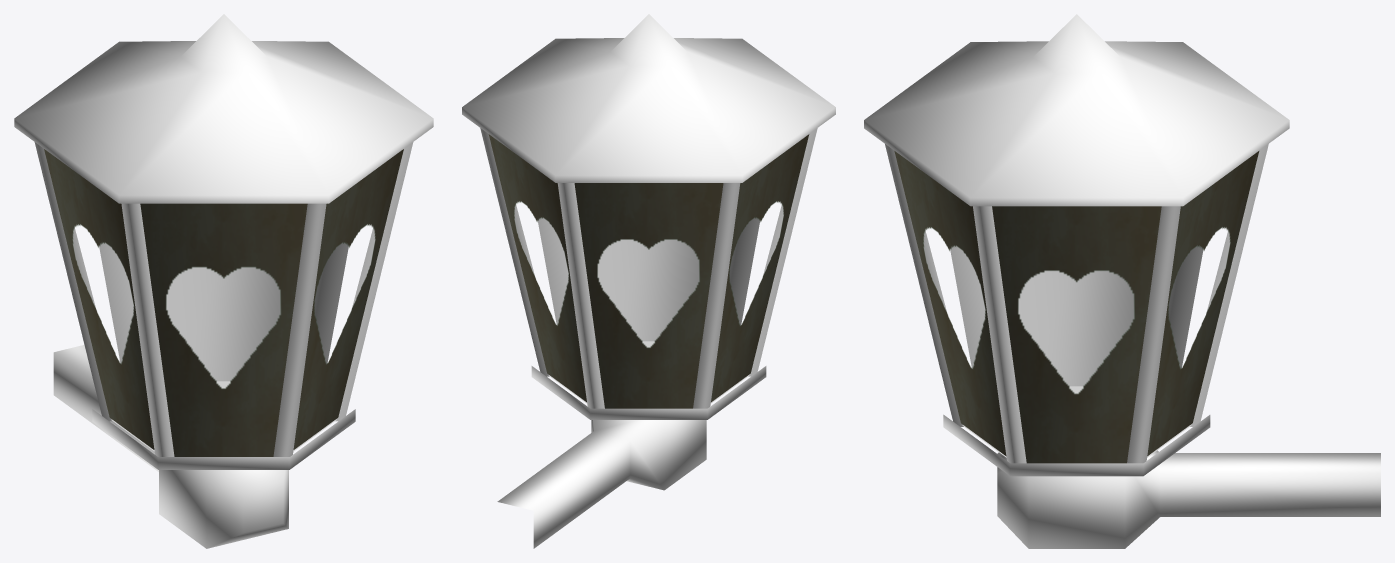
Rendered from stklib_loveLantern_a_main.glb.
3 renders of one model, left to right at view 1: azimuth 30°, elevation 25°; view 2: azimuth 150°, elevation 25°; view 3: azimuth 270°, elevation 25°, orthographic. The views are drawn at different scales.
Visible parts, largest first — view 1: stk_generic_ironA.png__, stklib_loveLantern_heart_a.png__, ___; view 2: stk_generic_ironA.png__, stklib_loveLantern_heart_a.png__, ___; view 3: stk_generic_ironA.png__, stklib_loveLantern_heart_a.png__, ___.
Boxes of the visible parts, x1,y1,x2,y2 form: stk_generic_ironA.png__: (14,14,433,548); stklib_loveLantern_heart_a.png__: (44,149,403,456); ___: (99,242,348,451); stk_generic_ironA.png__: (462,14,835,548); stklib_loveLantern_heart_a.png__: (488,134,809,408); ___: (537,217,760,403); stk_generic_ironA.png__: (864,14,1380,548); stklib_loveLantern_heart_a.png__: (894,151,1259,463); ___: (950,245,1203,457).
Size of the model in its own units: 2.02 by 3.11 by 2.83.
3 materials, 1 textured.
